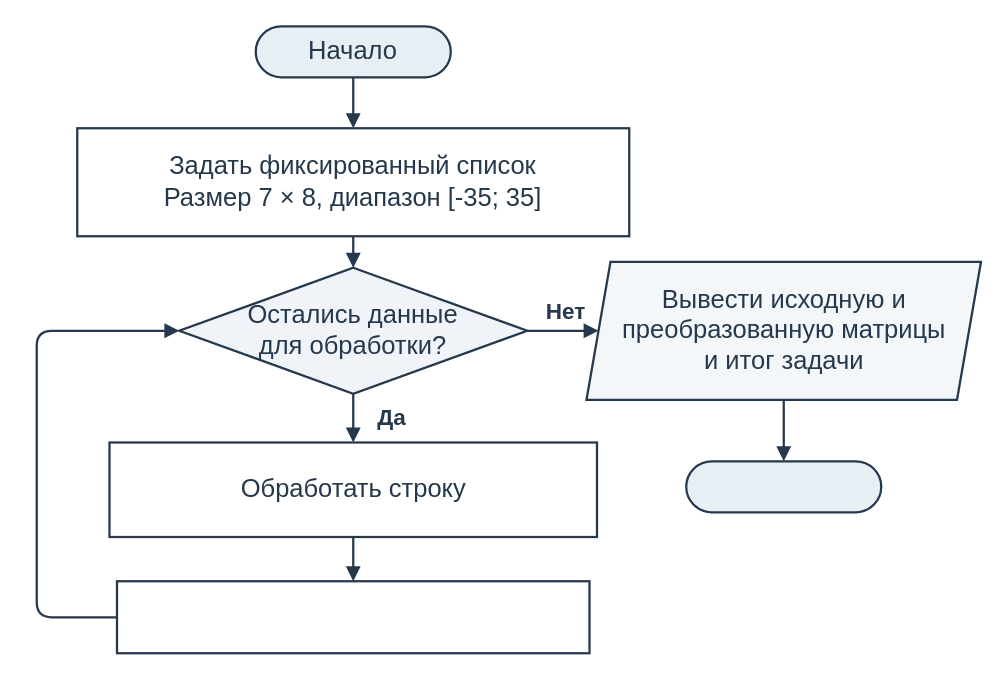
This 1008x681 diagram has some shape labels left out. Here are the shapes that lost their labels. From the top down, the box of each, then its label:
(684, 459, 882, 513): Конец
(115, 579, 590, 654): Перейти к следующим данным
